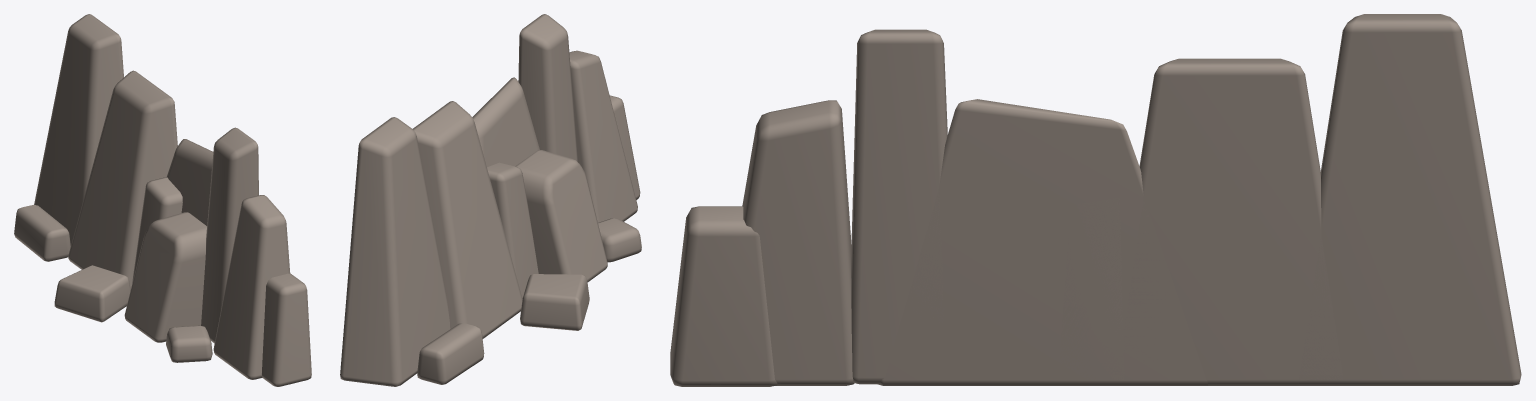
File: Cliff_Rocks_01.fbx
3 renders of one model, left to right at view 1: azimuth 30°, elevation 25°; view 2: azimuth 150°, elevation 25°; view 3: azimuth 270°, elevation 25°, orthographic. The views are drawn at different scales.
Parts seen in each view (by area): view 1: Cliff_Rocks_01; view 2: Cliff_Rocks_01; view 3: Cliff_Rocks_01.
Part boxes in pixels (x1,y1,x2,y2): Cliff_Rocks_01: [14, 14, 311, 386]; Cliff_Rocks_01: [340, 14, 641, 386]; Cliff_Rocks_01: [670, 14, 1521, 386].
Size of the model in its own units: 59.93 by 97.77 by 206.
